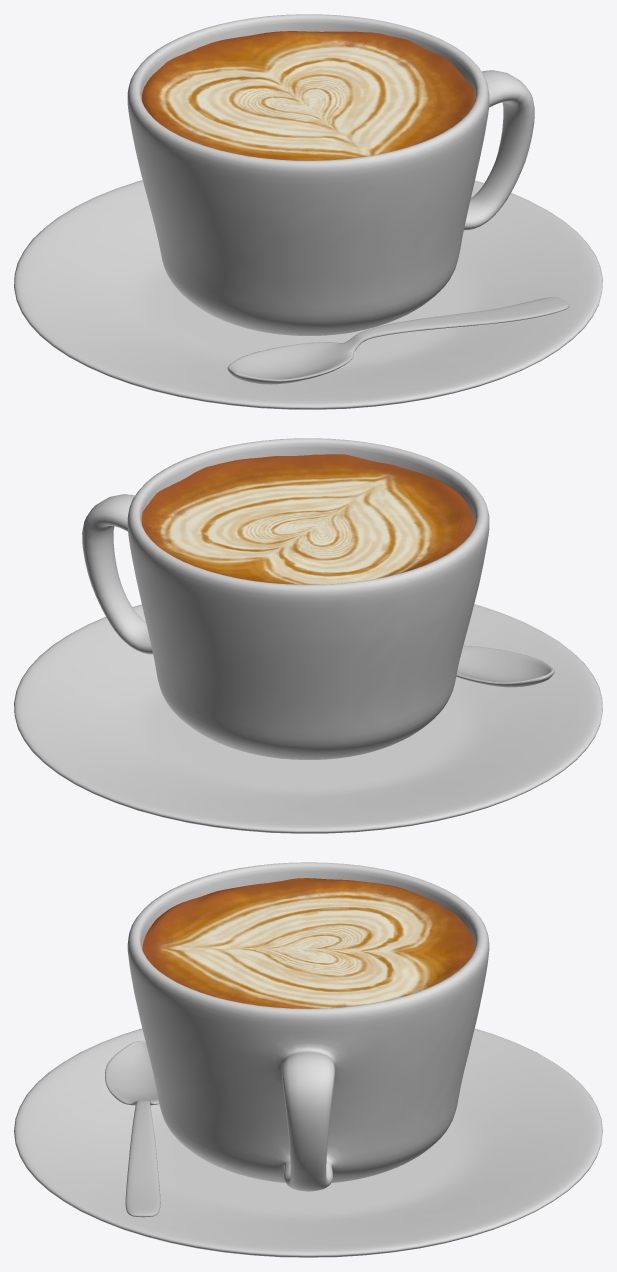
Rendered from coffee_mug-transformed.glb.
3 views of the same model, one above another, from view 1: azimuth 30°, elevation 25°; view 2: azimuth 150°, elevation 25°; view 3: azimuth 270°, elevation 25° (orthographic).
Visible parts, largest first — view 1: Saucer_Cup_0, Latte_Latte_0, Spoon_Metal_0; view 2: Saucer_Cup_0, Latte_Latte_0, Spoon_Metal_0; view 3: Saucer_Cup_0, Latte_Latte_0, Spoon_Metal_0.
Part boxes in pixels (box(x1,y1,x2,y2)): Saucer_Cup_0: box(14, 14, 602, 409); Latte_Latte_0: box(142, 31, 474, 160); Spoon_Metal_0: box(227, 297, 569, 384); Saucer_Cup_0: box(14, 438, 602, 833); Latte_Latte_0: box(141, 454, 474, 584); Spoon_Metal_0: box(456, 645, 554, 687); Saucer_Cup_0: box(14, 862, 602, 1257); Latte_Latte_0: box(142, 878, 474, 1008); Spoon_Metal_0: box(105, 1041, 160, 1217).
Size of the model in its own units: 1.25 by 0.5275 by 1.25.
Materials: 3 (1 with a texture image).
